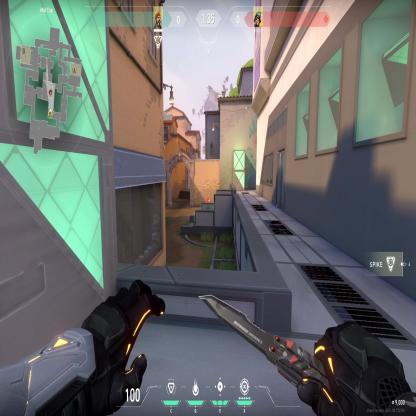enemy: (205, 194, 211, 203)
